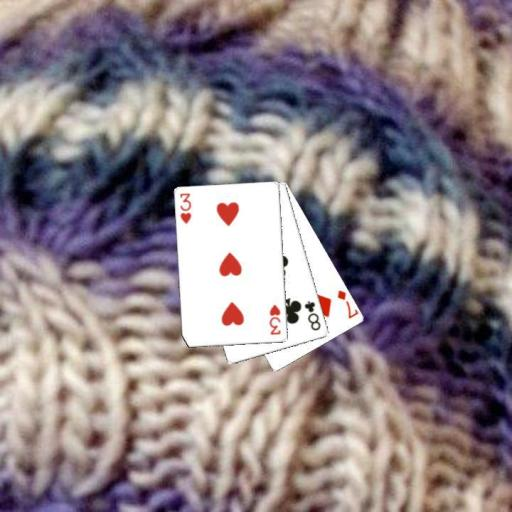3H: (177, 191, 193, 226), (267, 302, 282, 337)
7D: (334, 287, 359, 320)
8C: (302, 298, 322, 332)
